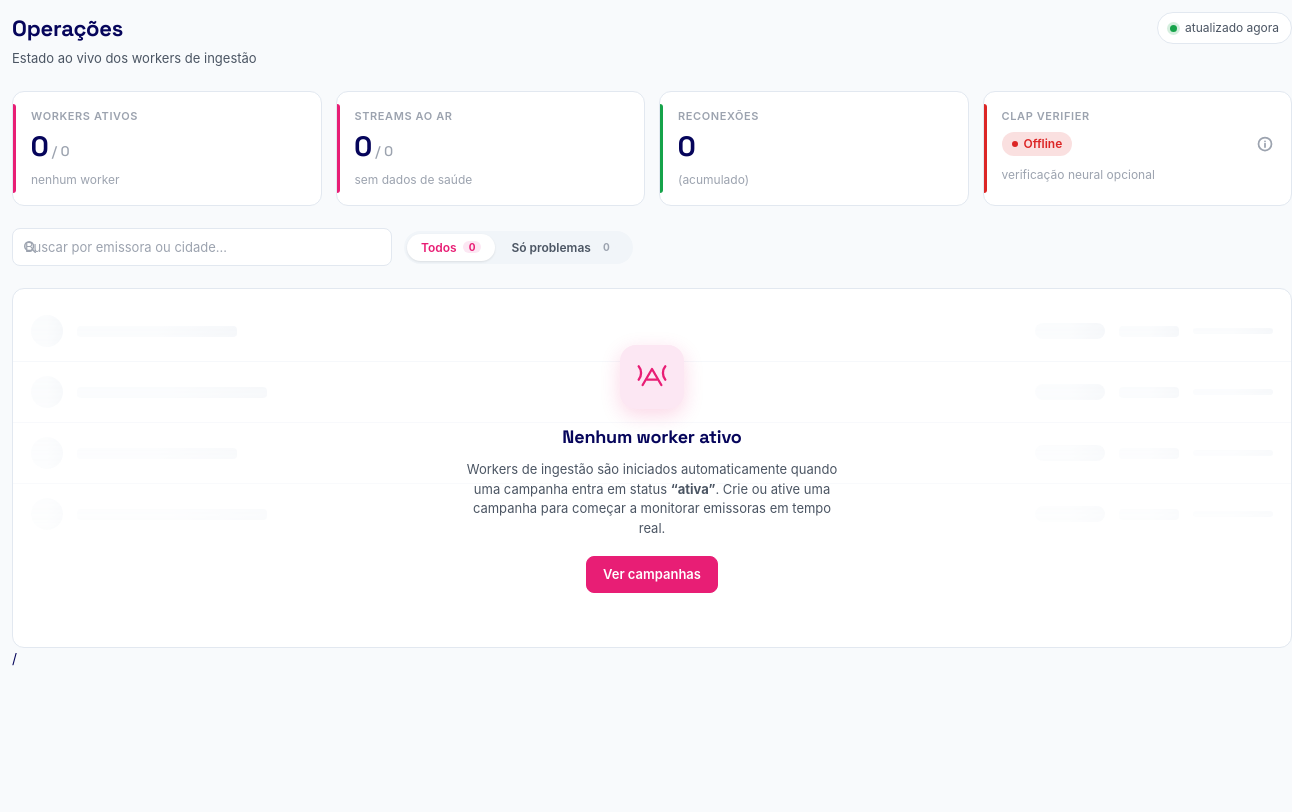
Test: OperationsPage › sem workers: estado vazio explica e leva às campanhas
Expected: the heading "Nenhum worker ativo" is shown, [562,423,742,450]
Expected: the text "nenhum worker" is shown, [31,171,120,189]
Click the button "Ver campanhas". click: (652, 574)
box: [586,556,718,593]
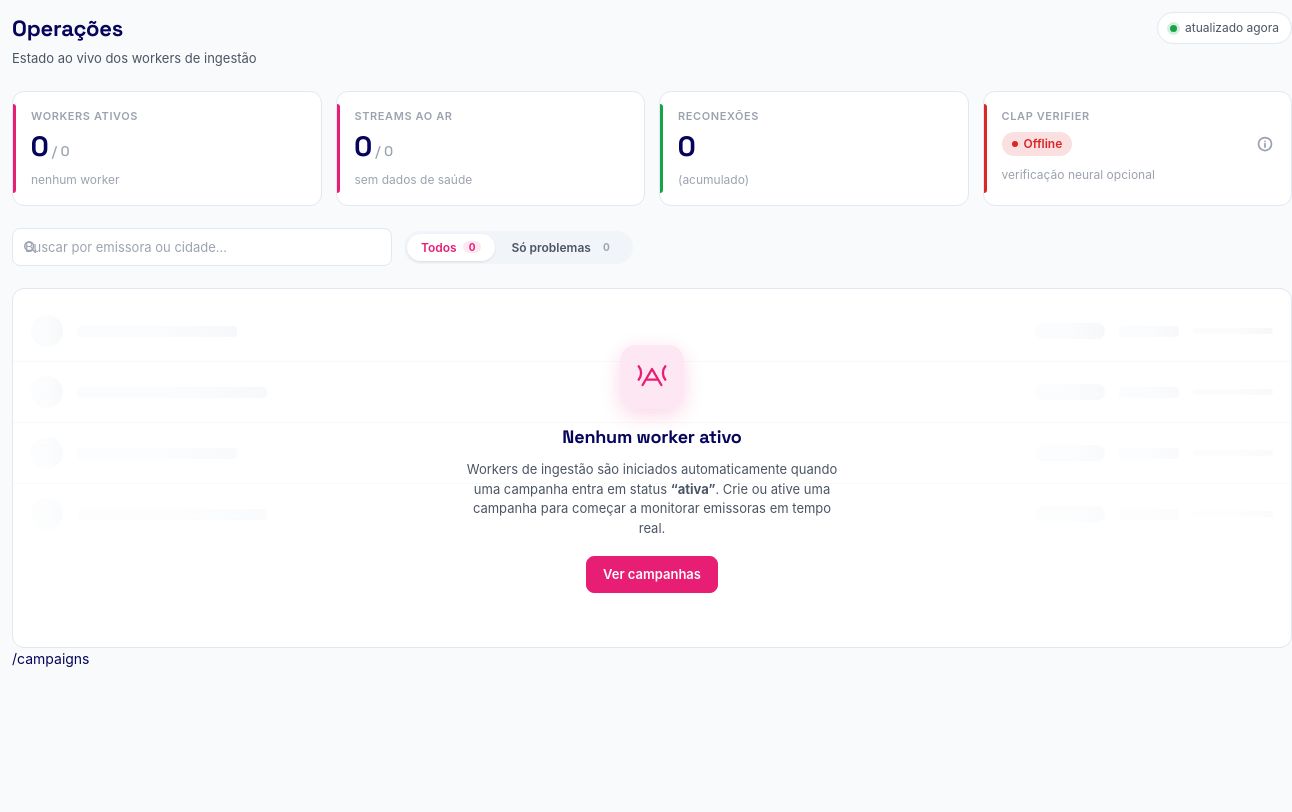
Now the text with test id "local" reads "/campaigns", box [12,650,90,667]
